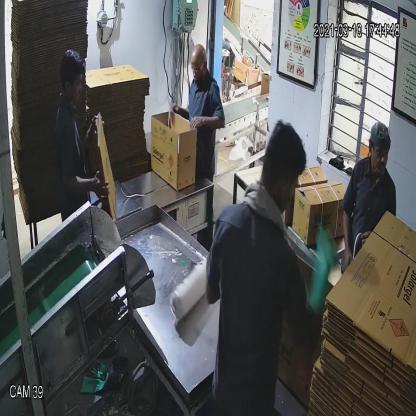glove: (302, 216, 338, 326)
no_glove: (57, 161, 110, 211), (190, 103, 232, 144), (340, 205, 356, 280)
